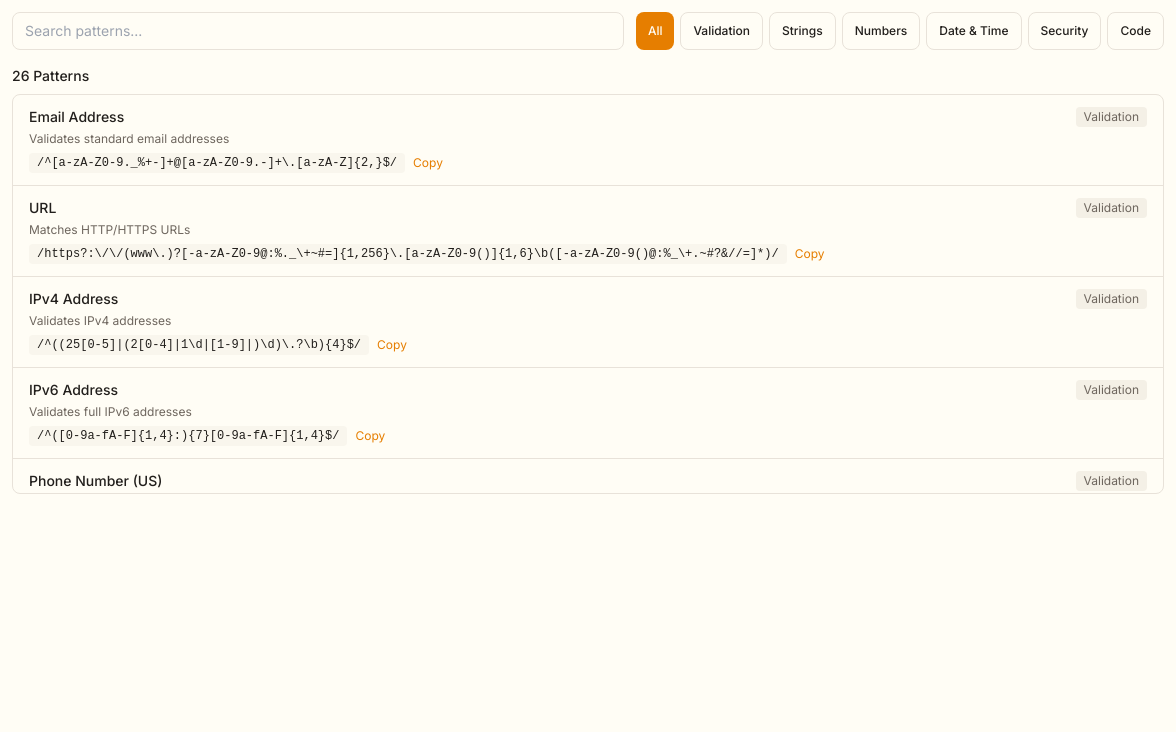
Test: RegexLibrary › shows no match for invalid input
Click the text "Email Address" at coordinates (77, 117), box [29,107,124,127]
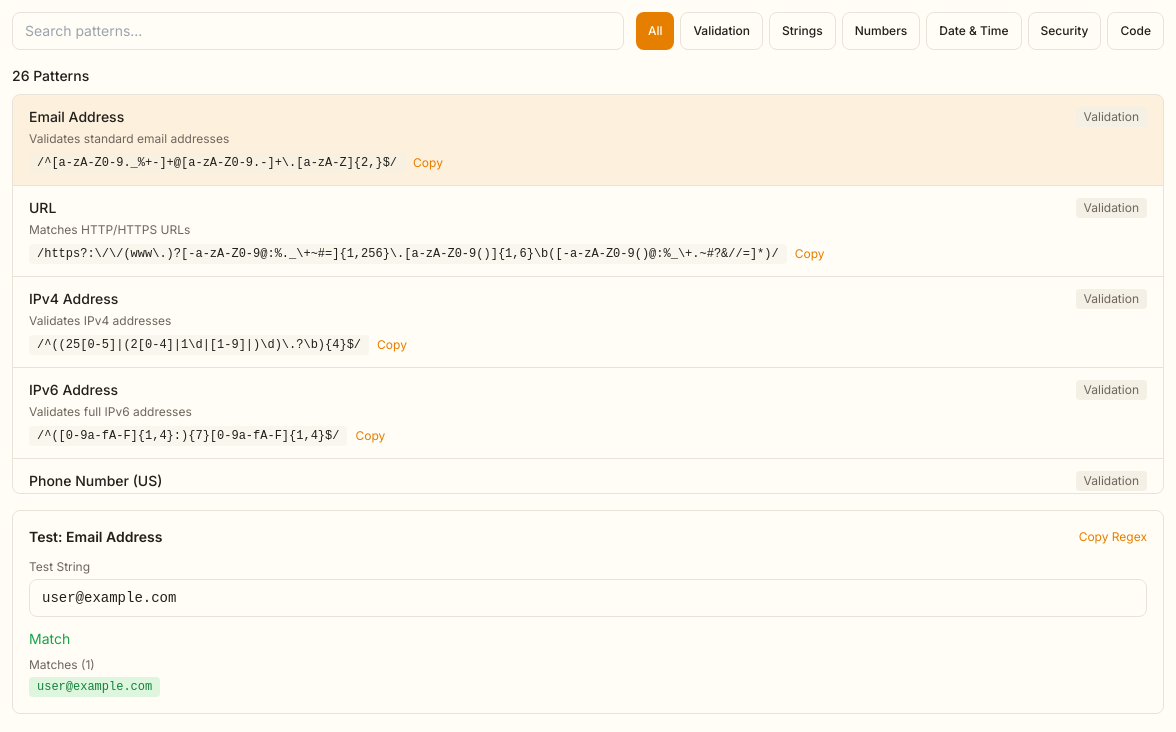
Replace the text in the field named "Test string input" with "not-an-email" at coordinates (588, 598), box [29,579,1147,617]
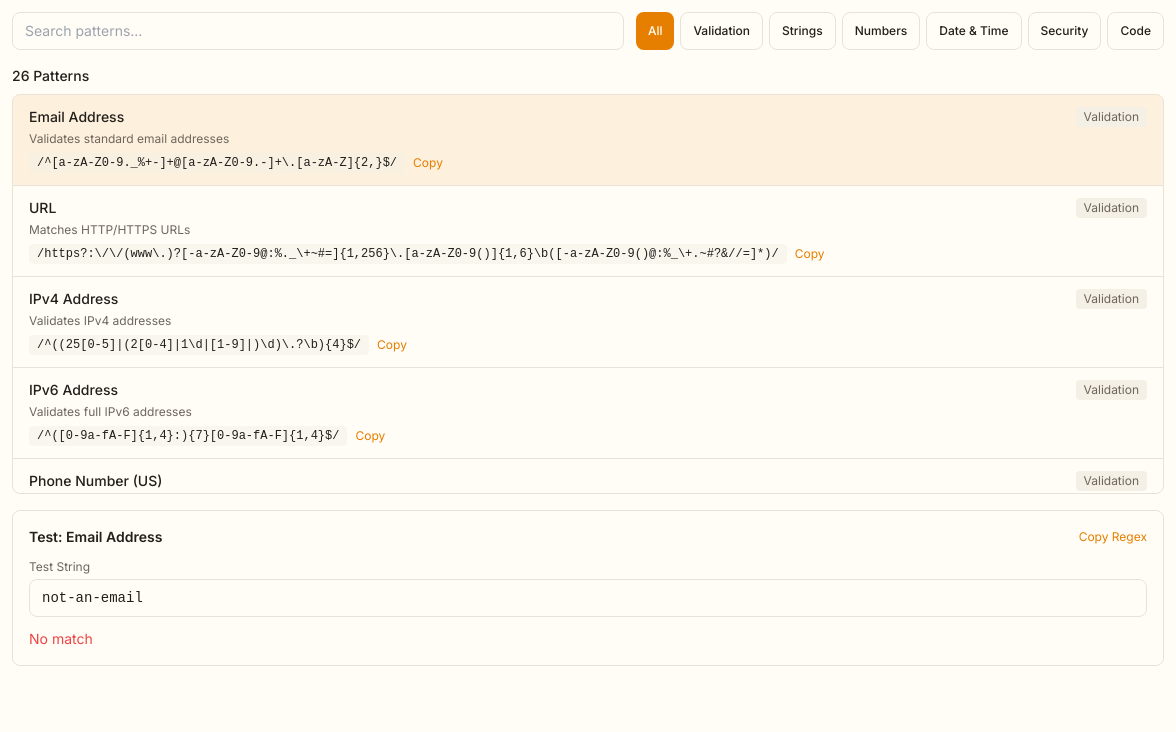
Now the text "No match" is shown, box [29,629,93,649]
